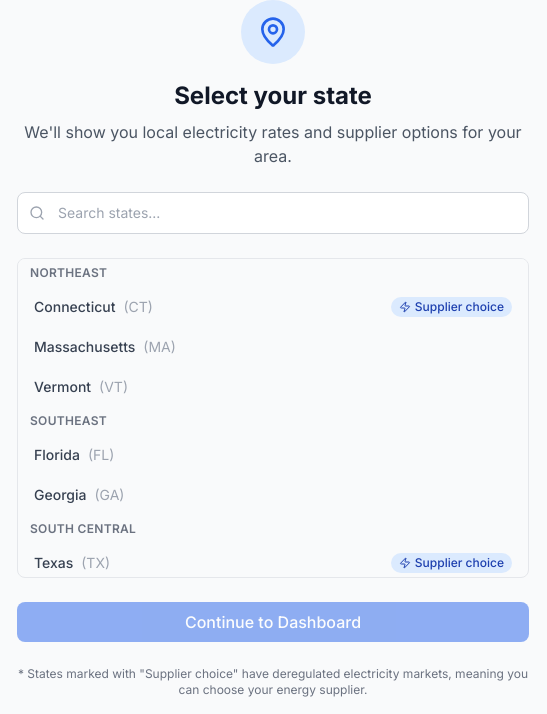
Test: RegionSelector › filters by abbreviation
Type "TX" into the field with placeholder "Search states...". click: (273, 213)
box: x1=17 y1=192 x2=529 y2=234
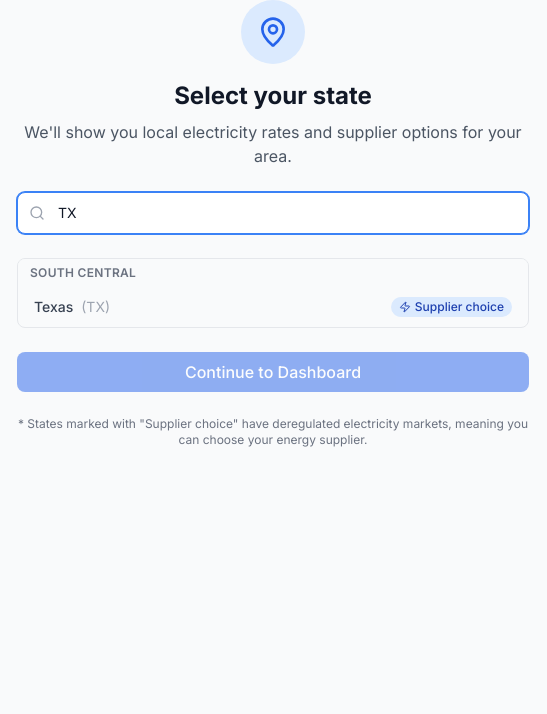
Expected: the text "Texas" is shown, x1=34 y1=297 x2=73 y2=317
Now the button "Connecticut" is gone
